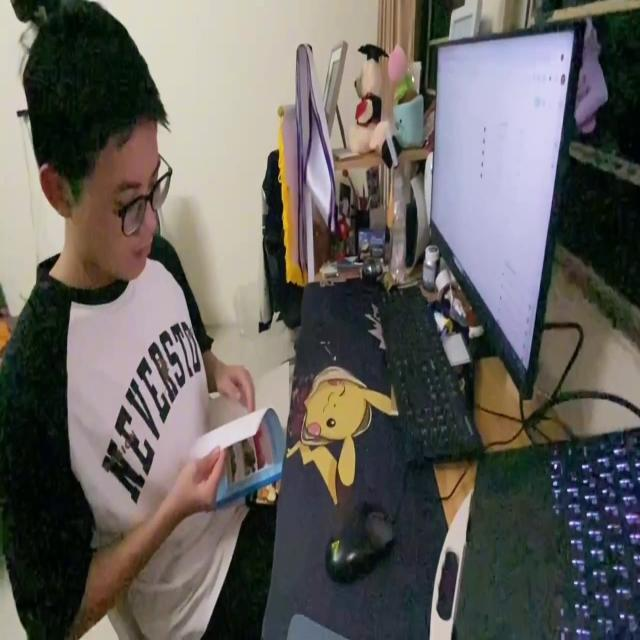book: (185, 361, 291, 496)
laptop: (428, 12, 586, 406), (449, 421, 640, 640)
student: (0, 0, 276, 640)
